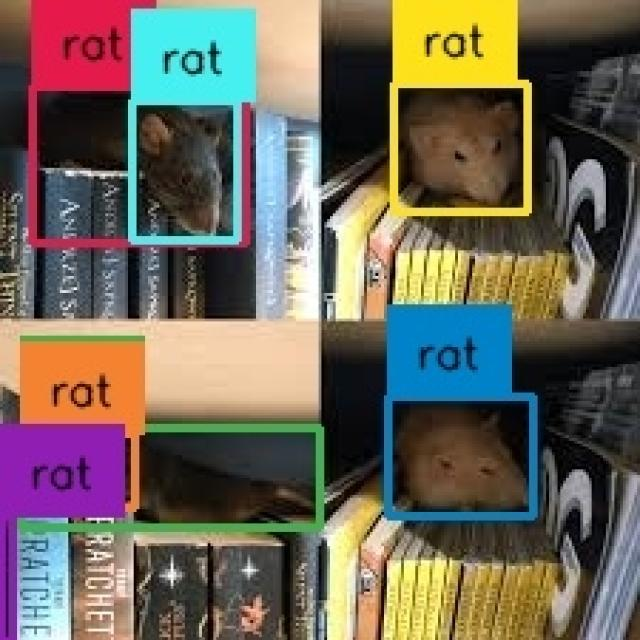rat: (31, 88, 248, 242), (21, 428, 320, 528), (394, 82, 528, 214), (388, 398, 534, 515), (132, 101, 238, 240), (21, 432, 135, 507), (0, 517, 14, 640)
